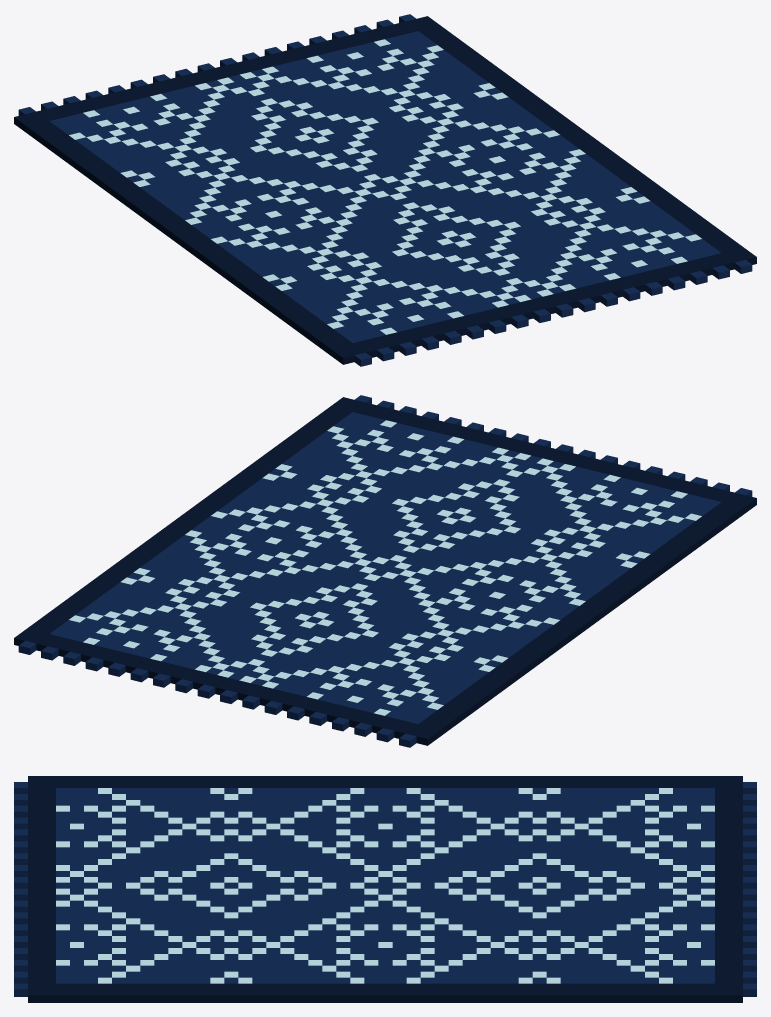
File: PixelRug_Deep-Sea_First-Edition_2021.glb
The picture shows the model from 3 angles, top to bottom: view 1: azimuth 30°, elevation 25°; view 2: azimuth 150°, elevation 25°; view 3: azimuth 270°, elevation 25°; orthographic projection. The views are drawn at different scales.
Parts seen in each view (by area): view 1: Curve.1083; view 2: Curve.1083; view 3: Curve.1083.
Part boxes in pixels (x1=…): Curve.1083: x1=14, y1=14, x2=756, y2=366; Curve.1083: x1=14, y1=395, x2=756, y2=747; Curve.1083: x1=14, y1=776, x2=756, y2=1002.
Size of the model in its own units: 0.7768 by 0.0123 by 1.11.
